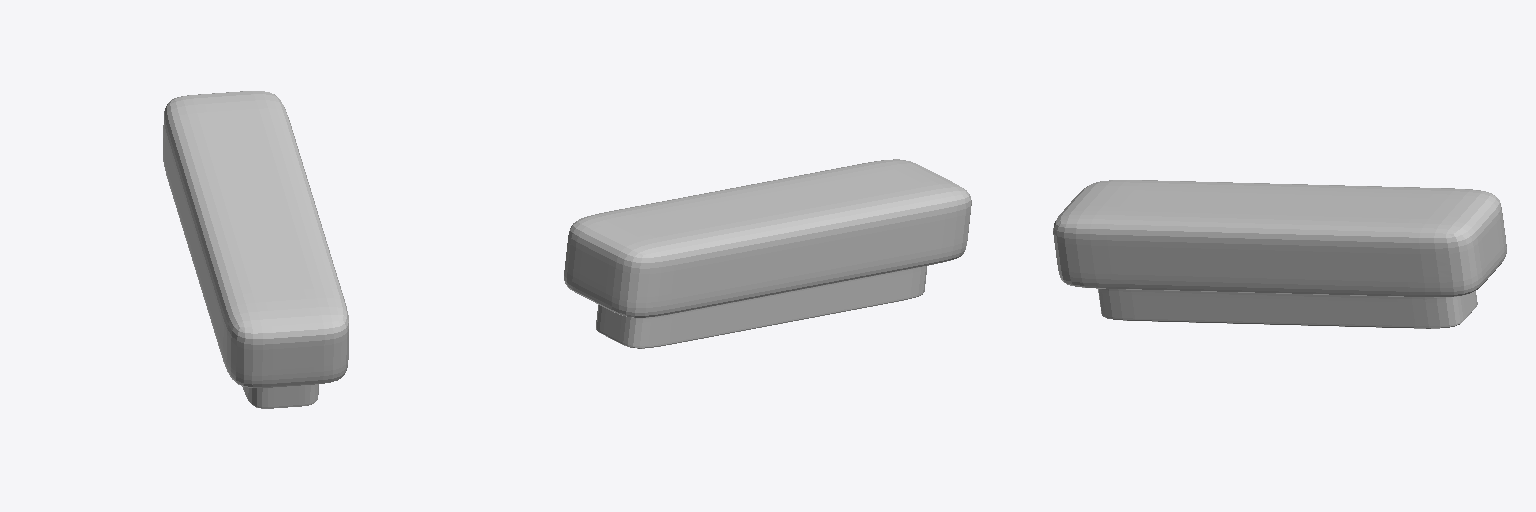
File: LeftObstancle.obj
The picture shows the model from 3 angles: view 1: azimuth 30°, elevation 25°; view 2: azimuth 150°, elevation 25°; view 3: azimuth 270°, elevation 25°; orthographic projection.
Parts seen in each view (by area): view 1: Cube.006_Cube.011; view 2: Cube.006_Cube.011; view 3: Cube.006_Cube.011.
Boxes of the visible parts, <box> form: Cube.006_Cube.011: <box>163,91,348,408</box>; Cube.006_Cube.011: <box>564,159,971,348</box>; Cube.006_Cube.011: <box>1053,180,1506,328</box>.
Size of the model in its own units: 0.4917 by 0.3224 by 0.8671.